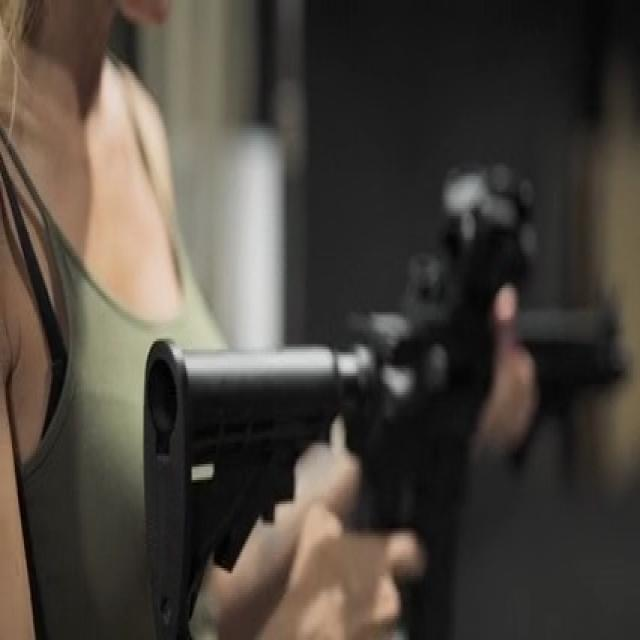Gun_Holder: (132, 99, 640, 639)
